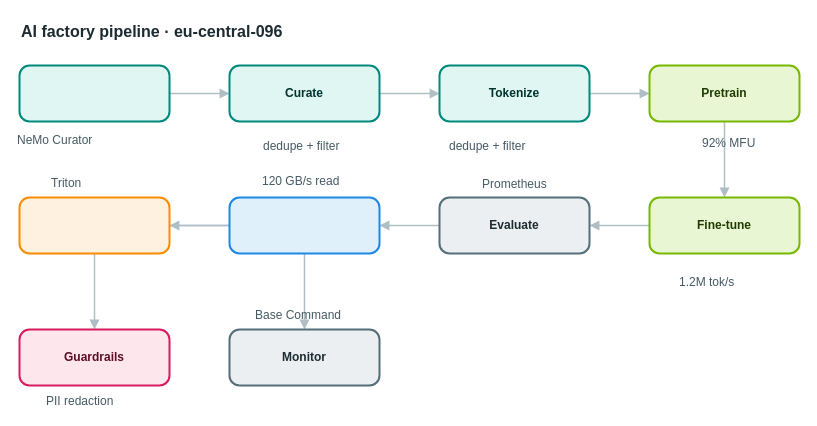
Image size: 817x426. Some labels were removed from this diagram. Here are the shapes that lost their labels. From the top down, the centre of each, then its label:
At [94,93]: "Ingest".
At [94,225]: "Serve".
At [304,225]: "Model registry".
